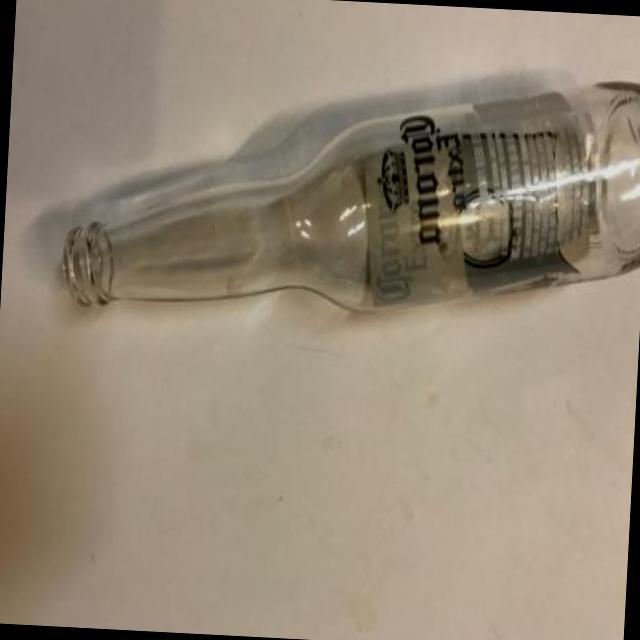bottle: (63, 84, 639, 309)
